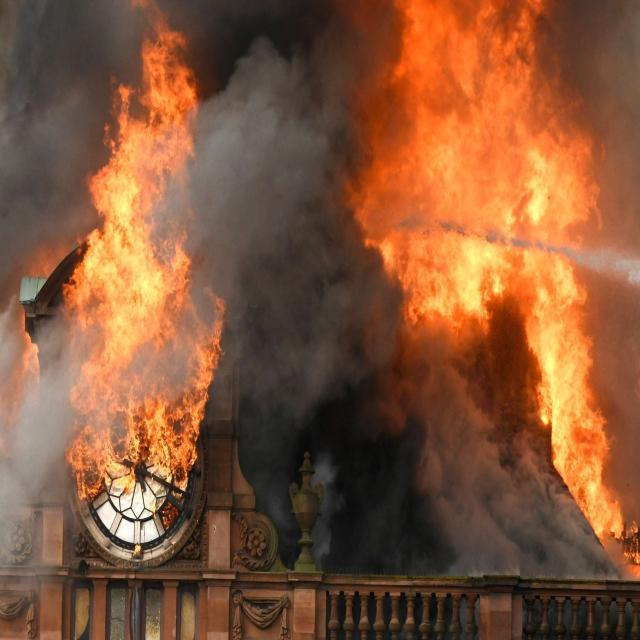Fire: (347, 0, 640, 577), (58, 0, 214, 487)
Smoke: (214, 0, 362, 569)
